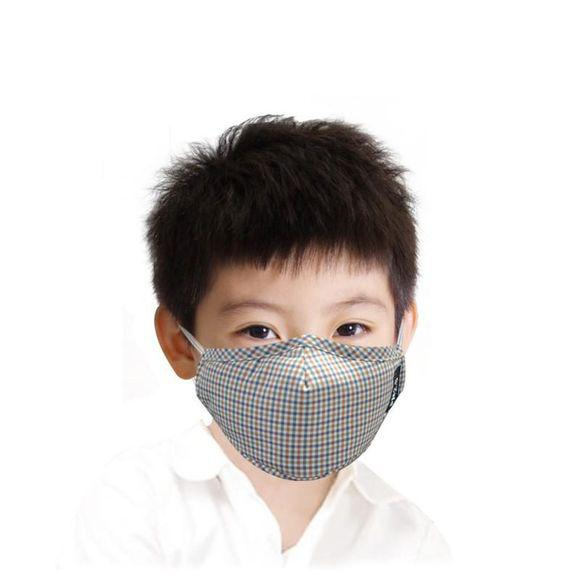OK: (212, 283, 401, 464)
